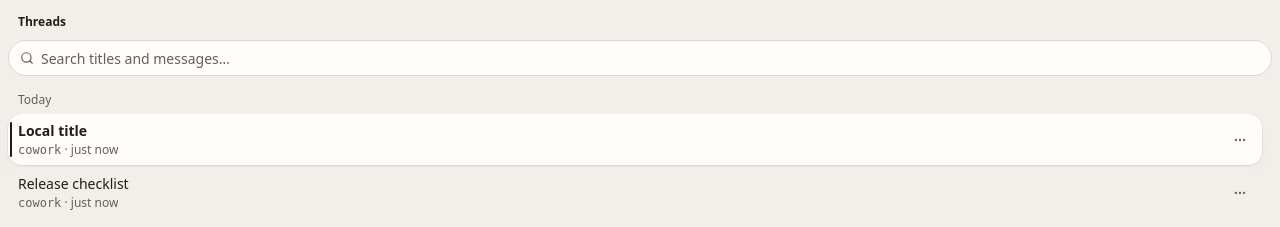
it: searching message text › lists a thread whose messages matched, with the words that did
Type "readme" into the search field named "Search threads".
click(640, 58); type("readme")  # box [8,40,1272,76]
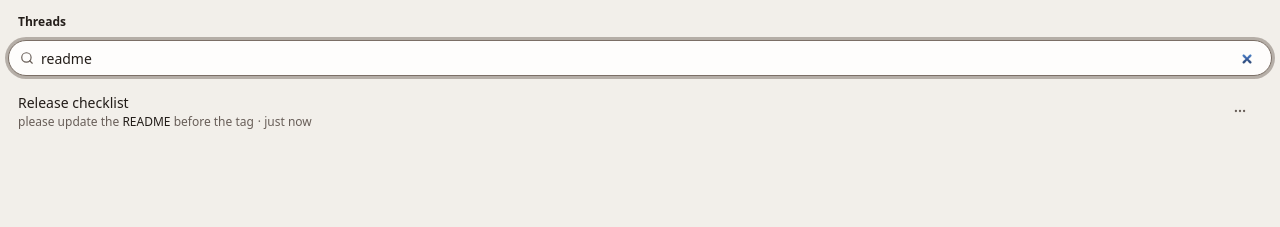
Now the button "Release checklist" shows "README", box [18,92,1220,130]
Now the text "README" is shown, box [122,113,170,130]
